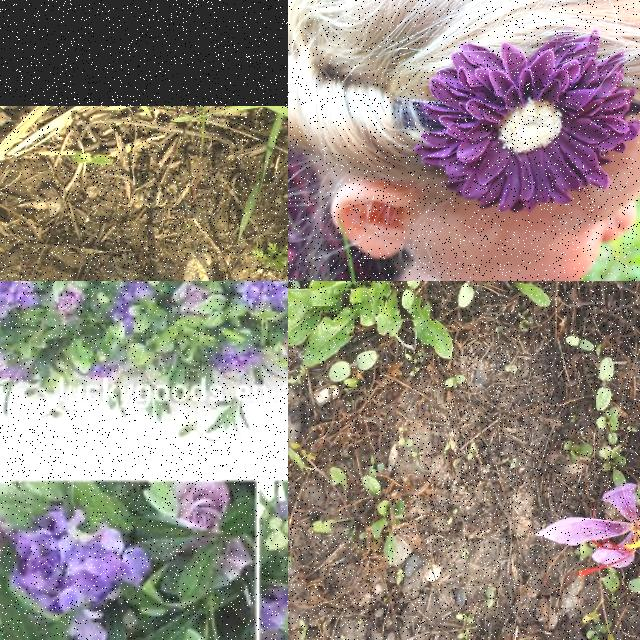flower: (536, 430, 640, 640)
